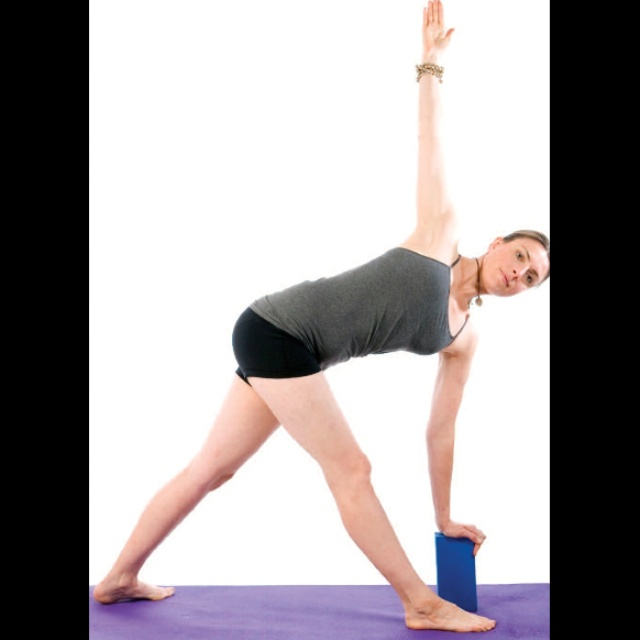Triangle_Pose: (91, 1, 550, 634)
